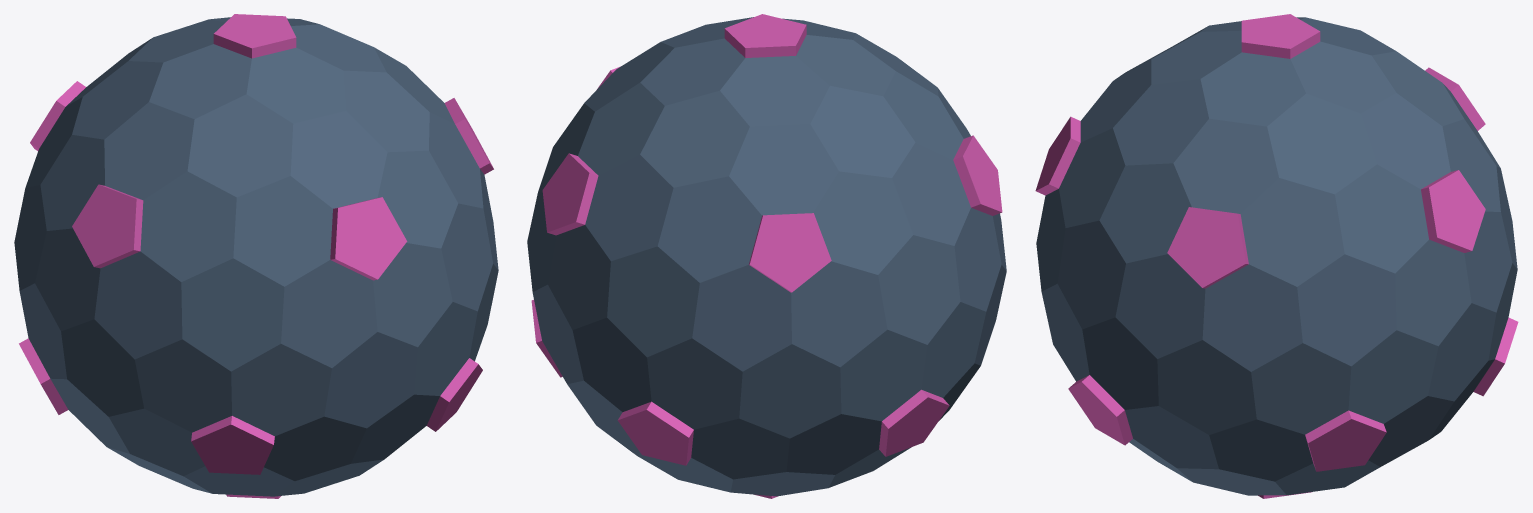
The model's file is Ball.fbx.
The picture shows the model from 3 angles, left to right: view 1: azimuth 30°, elevation 25°; view 2: azimuth 150°, elevation 25°; view 3: azimuth 270°, elevation 25°; orthographic projection.
Visible parts, largest first — view 1: Ball; view 2: Ball; view 3: Ball.
Boxes of the visible parts, x1,y1,x2,y2 form: Ball: [14, 14, 498, 498]; Ball: [527, 14, 1006, 498]; Ball: [1035, 14, 1518, 498].
Size of the model in its own units: 119 by 124 by 120.
